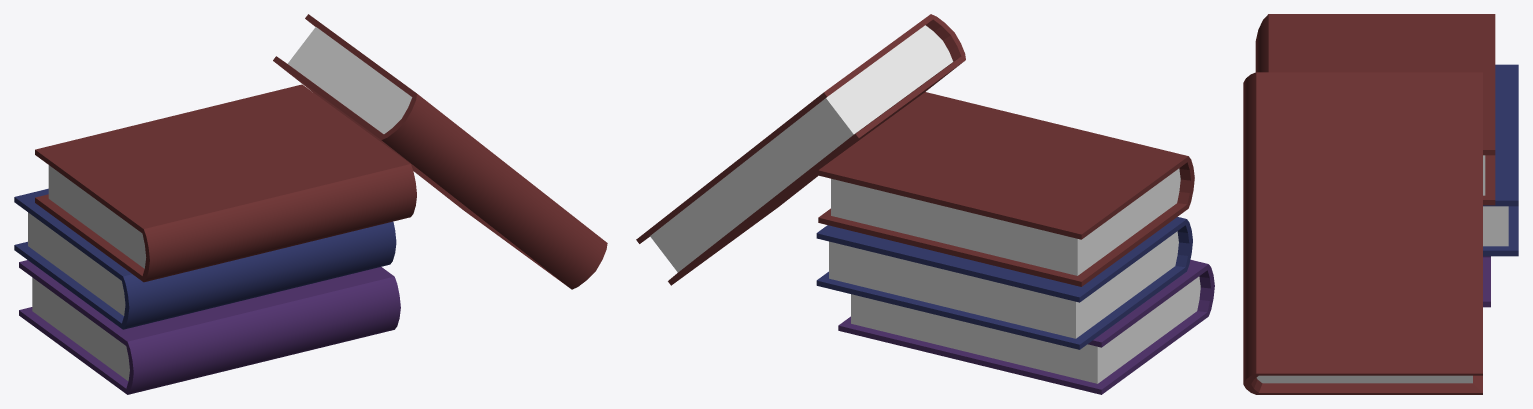
The model's file is LivreGroupe3.fbx.
3 renders of one model, left to right at view 1: azimuth 30°, elevation 25°; view 2: azimuth 150°, elevation 25°; view 3: azimuth 270°, elevation 25°, orthographic. The views are drawn at different scales.
Parts seen in each view (by area): view 1: LivreGroupe3; view 2: LivreGroupe3; view 3: LivreGroupe3.
Part boxes in pixels (box(x1,y1,x2,y2)): LivreGroupe3: box(14, 14, 607, 394); LivreGroupe3: box(636, 14, 1214, 394); LivreGroupe3: box(1243, 14, 1518, 394).
Size of the model in its own units: 48.67 by 22.9 by 23.38.
